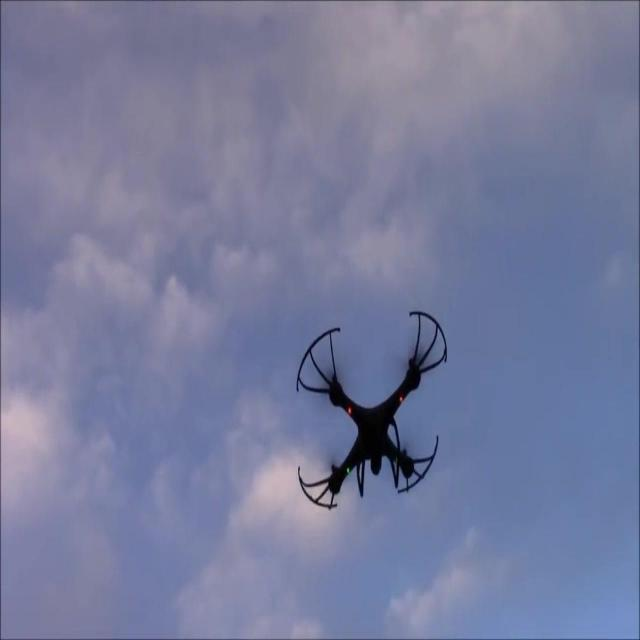UAV: (297, 311, 447, 509)
